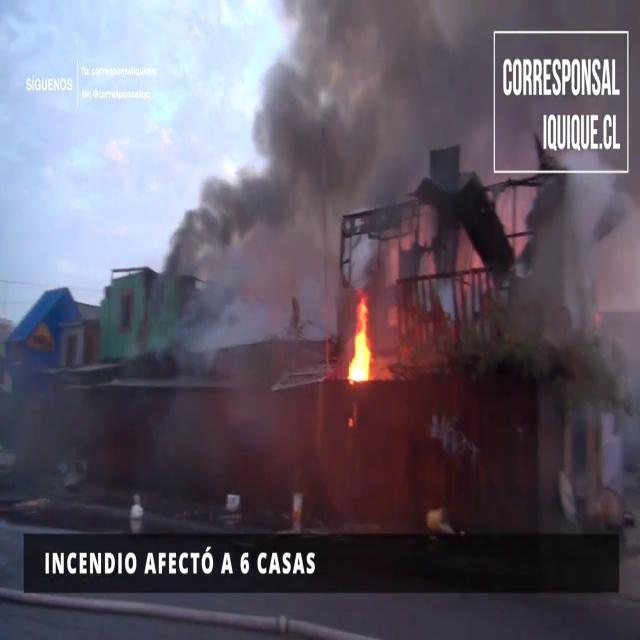Fire: (344, 296, 376, 386)
Smoke: (106, 1, 424, 356), (502, 162, 640, 514)
